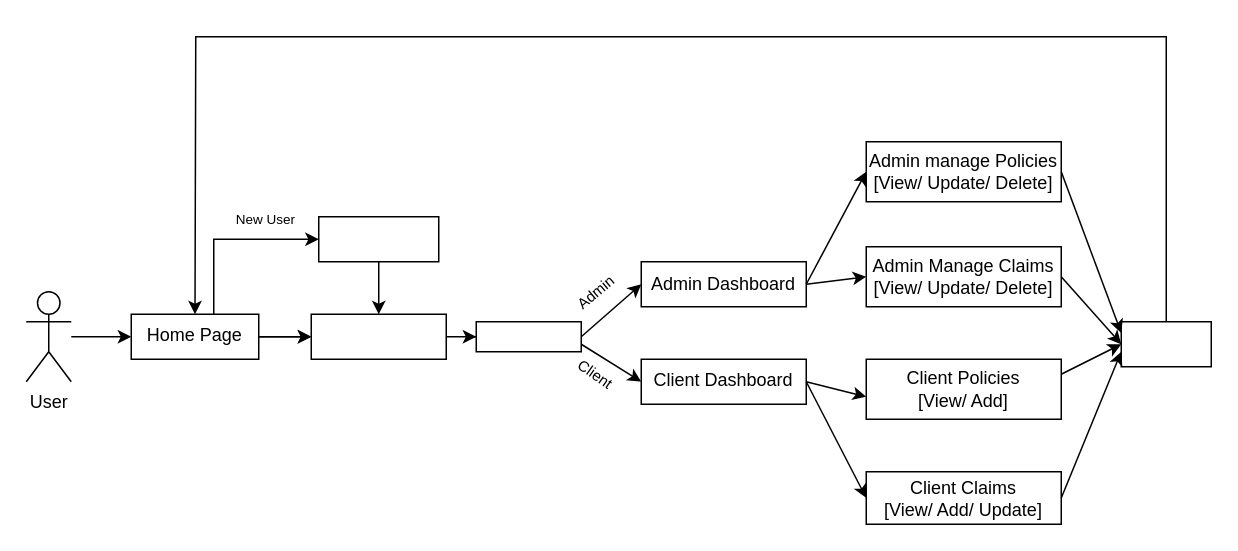
Some shapes in this 1238 by 551 pixel diagram are drawn without their labels. The shapes that lost their labels are listed below. From the top down, each one's box as (x1, y1, x2, y2) in pixels, then its label:
(317, 215, 439, 262): Register
(310, 313, 446, 359): Login
(475, 320, 581, 352): Role Check
(1120, 320, 1211, 367): Logout
